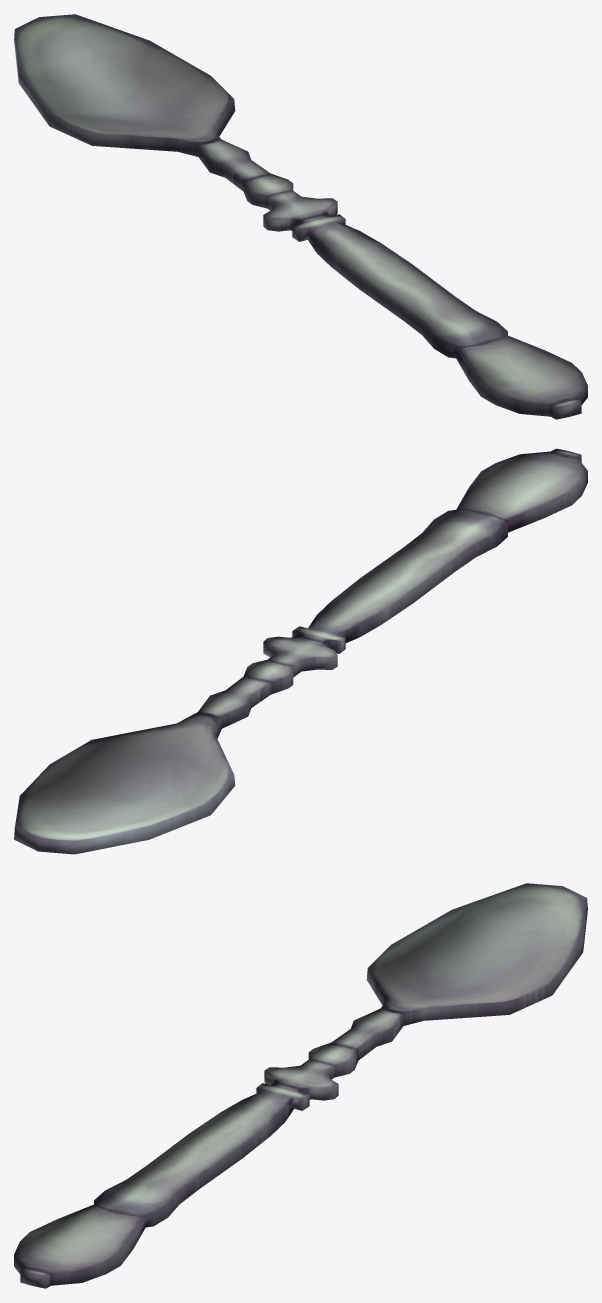
Rendered from Lv1_Cuchara1.fbx.
The picture shows the model from 3 angles, top to bottom: view 1: azimuth 30°, elevation 25°; view 2: azimuth 150°, elevation 25°; view 3: azimuth 330°, elevation 25°; orthographic projection.
Visible parts, largest first — view 1: Lv1_Cuchara1; view 2: Lv1_Cuchara1; view 3: Lv1_Cuchara1.
Boxes of the visible parts, box(x1,y1,x2,y2) form: Lv1_Cuchara1: box(14, 14, 587, 419); Lv1_Cuchara1: box(14, 448, 587, 854); Lv1_Cuchara1: box(14, 883, 587, 1288).
Size of the model in its own units: 2.29 by 0.5197 by 13.05.
1 material, 1 textured.
